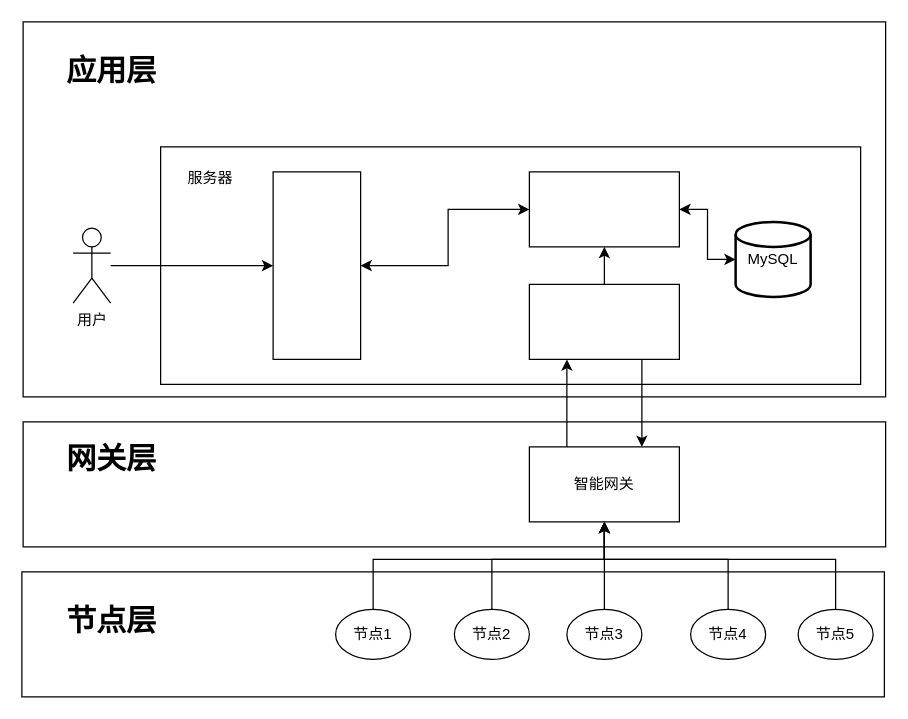
This 908x719 diagram has some shape labels left out. Each missing label, with the centre of its shape:
Netty模块: the point at 603,321
Web模块: the point at 603,209
前端界面: the point at 316,265
